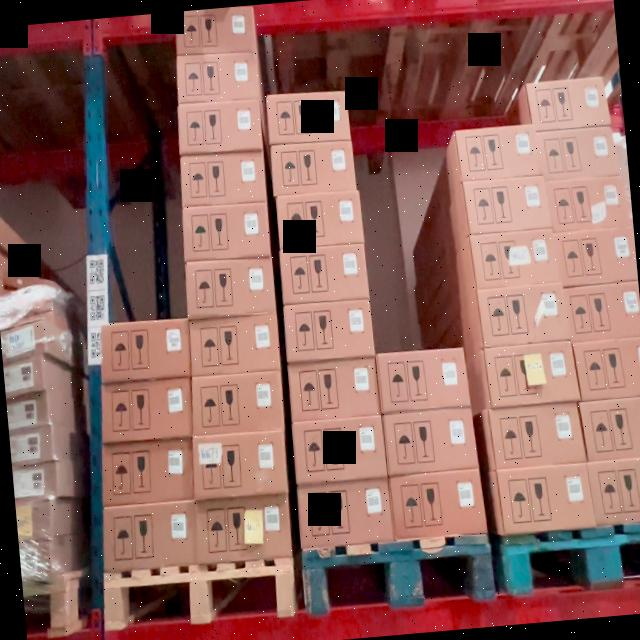box: (299, 482, 392, 545), (378, 348, 469, 412), (192, 374, 284, 436), (102, 438, 188, 504), (385, 410, 476, 472), (194, 436, 286, 497), (499, 466, 592, 526), (195, 497, 290, 555), (100, 380, 190, 441), (102, 318, 190, 380), (490, 407, 580, 467), (282, 301, 373, 360), (186, 258, 274, 319), (102, 508, 194, 566), (391, 474, 482, 532), (182, 201, 268, 262), (280, 247, 368, 304), (486, 345, 577, 400), (291, 361, 378, 418), (190, 317, 278, 373), (478, 290, 569, 344), (294, 422, 384, 476), (465, 178, 551, 234), (176, 101, 262, 154), (175, 51, 257, 106), (270, 90, 350, 146), (180, 156, 266, 208), (458, 128, 544, 180), (472, 233, 562, 282), (272, 141, 354, 194), (278, 198, 364, 245), (176, 9, 254, 58)
